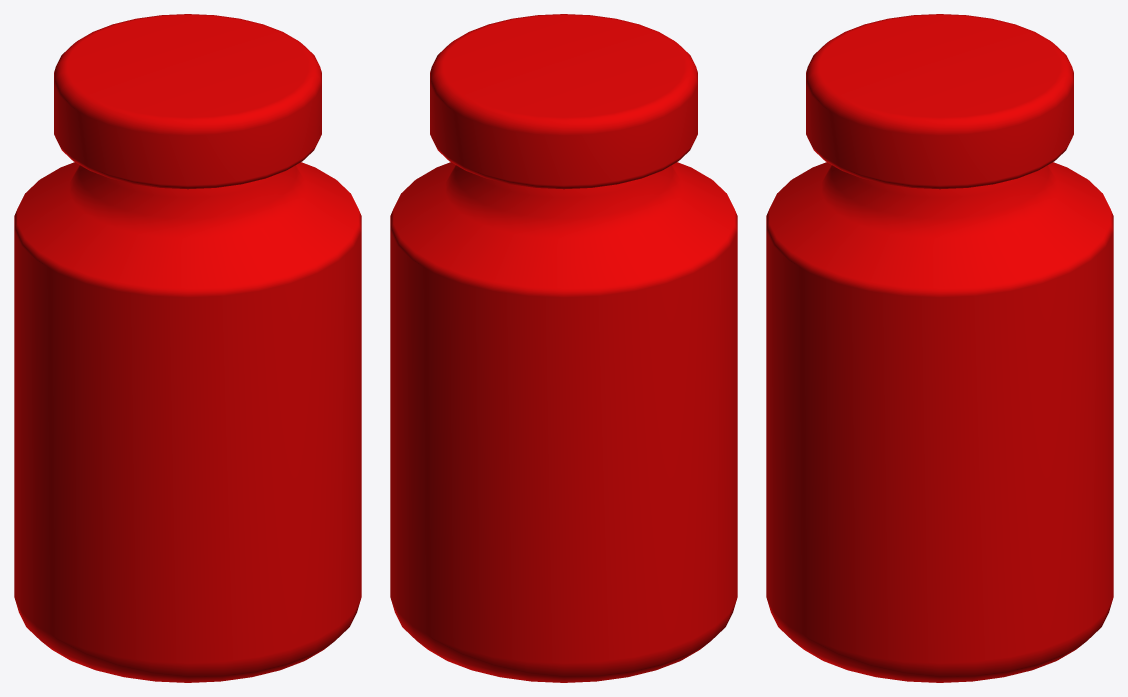
File: Package_3.fbx
3 views of the same model, side by side, from view 1: azimuth 30°, elevation 25°; view 2: azimuth 150°, elevation 25°; view 3: azimuth 270°, elevation 25° (orthographic).
Visible parts, largest first — view 1: L5:polySurface6; view 2: L5:polySurface6; view 3: L5:polySurface6.
Part boxes in pixels (x1,y1,x2,y2): L5:polySurface6: [14, 14, 361, 682]; L5:polySurface6: [390, 14, 737, 682]; L5:polySurface6: [766, 14, 1113, 682].
Size of the model in its own units: 11.63 by 20.36 by 11.56.
